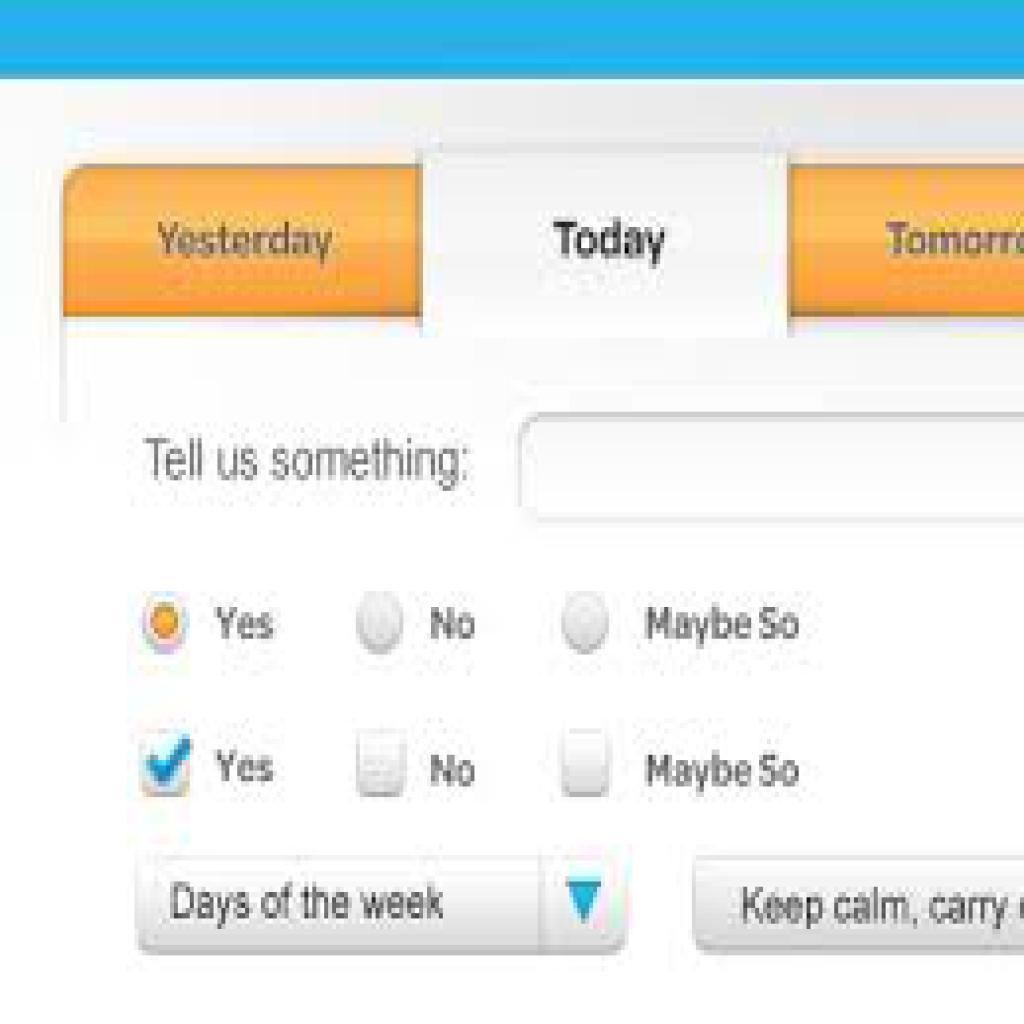button: (65, 165, 421, 318), (791, 165, 1024, 316)
checkbox: (139, 729, 193, 799), (356, 729, 409, 799), (561, 725, 611, 799)
dropdown: (138, 850, 627, 949)
input: (520, 414, 1024, 523), (692, 858, 1024, 953)
label: (141, 430, 477, 503), (541, 208, 681, 279)
radio: (561, 591, 615, 658), (140, 592, 191, 657), (357, 593, 405, 656)
